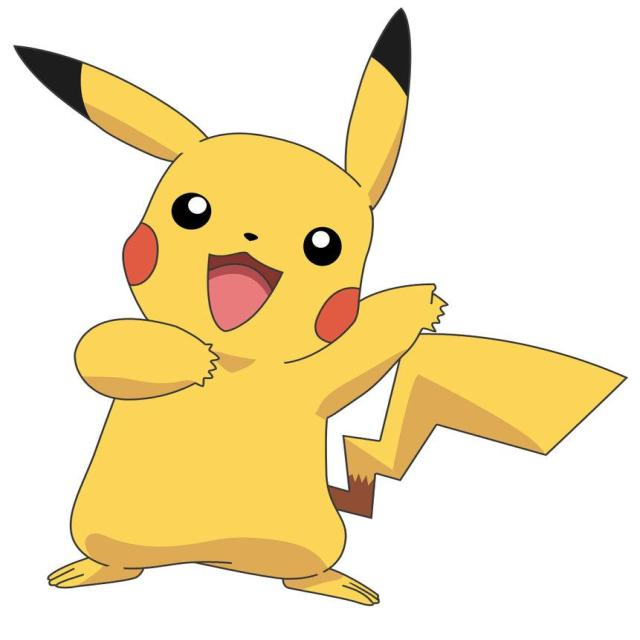pikachu: (13, 11, 623, 606)
